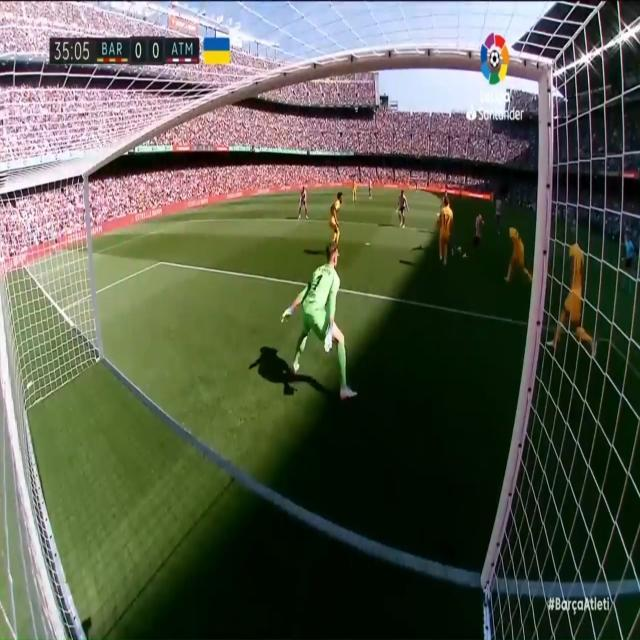ball: (456, 243, 462, 259)
goalkeeper: (280, 232, 359, 412)
player: (552, 209, 600, 364), (504, 218, 531, 289), (464, 208, 487, 268), (437, 194, 454, 267), (328, 187, 346, 249), (395, 182, 409, 235), (490, 191, 505, 240), (296, 180, 310, 224), (350, 174, 359, 205), (367, 175, 374, 200)
referee: (614, 225, 637, 297)
